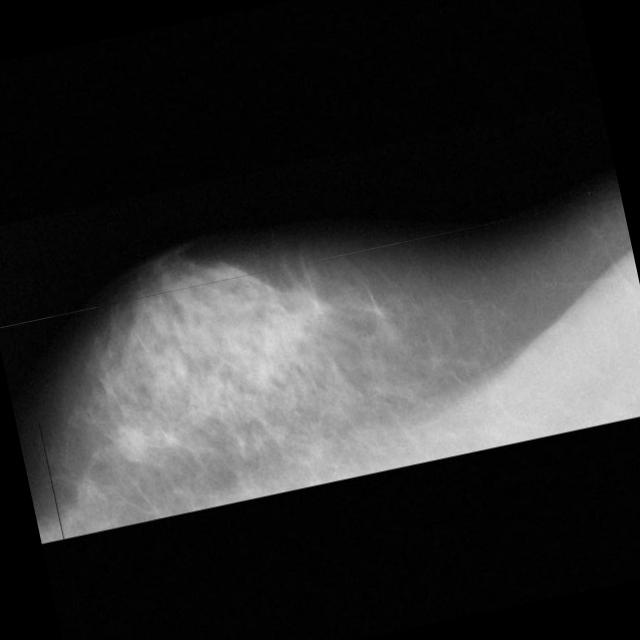SPIC: (109, 420, 155, 466)
